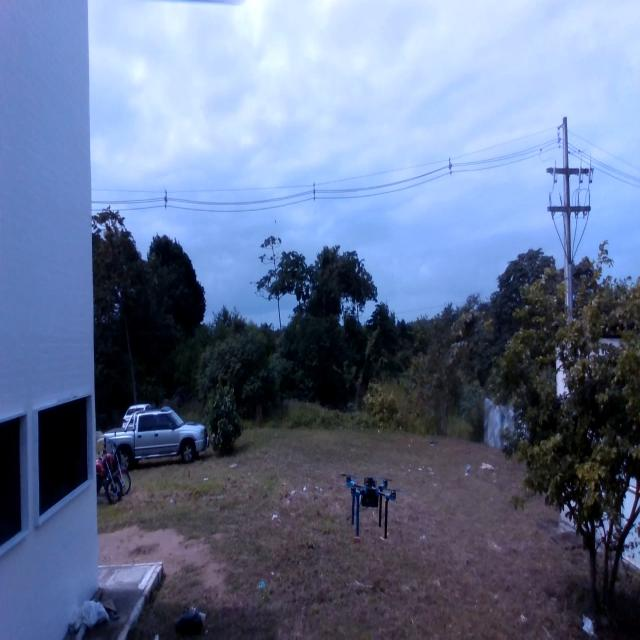-uav-: (334, 448, 407, 552)
